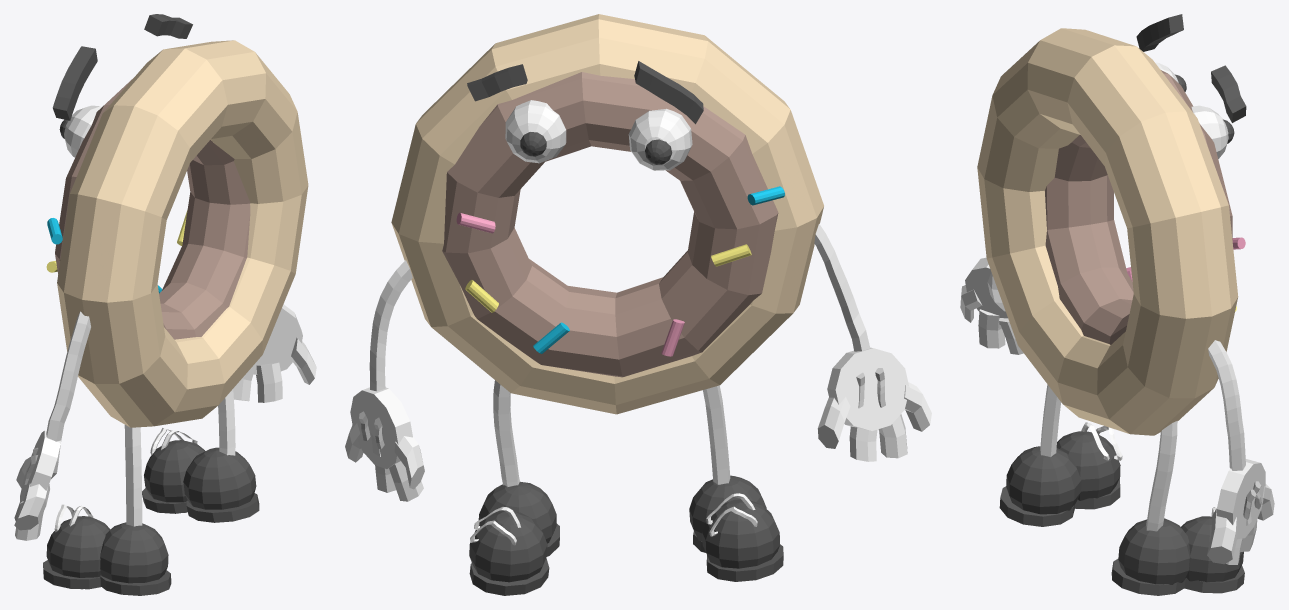
Rendered from donut adam.fbx.
The picture shows the model from 3 angles, left to right: view 1: azimuth 30°, elevation 25°; view 2: azimuth 150°, elevation 25°; view 3: azimuth 270°, elevation 25°; orthographic projection. The views are drawn at different scales.
Visible parts, largest first — view 1: mesh_714045191, mesh_1408855644, group_1271726261, group_911610836, group_913153934, group_1092254099, group_656011443, group_1081606240, mesh_605939537, group_1553115037, group_729656829; view 2: mesh_714045191, mesh_1408855644, group_913153934, group_911610836, group_1092254099, group_1271726261, group_54839747, mesh_605939537, group_1553115037, group_1081606240, group_656011443, group_729656829; view 3: mesh_714045191, mesh_1408855644, group_1271726261, group_911610836, group_1092254099, group_913153934, group_1553115037, group_729656829, group_54839747, group_1081606240, group_656011443.
Boxes of the visible parts, x1,y1,x2,y2 form: mesh_714045191: (57, 40, 308, 427); mesh_1408855644: (55, 78, 250, 339); group_1271726261: (43, 504, 171, 595); group_911610836: (142, 428, 259, 522); group_913153934: (14, 311, 90, 540); group_1092254099: (233, 304, 316, 402); group_656011443: (52, 46, 97, 120); group_1081606240: (124, 425, 142, 526); mesh_605939537: (64, 105, 101, 157); group_1553115037: (218, 389, 235, 455); group_729656829: (144, 14, 192, 38); mesh_714045191: (391, 14, 823, 414); mesh_1408855644: (442, 72, 778, 377); group_913153934: (814, 223, 931, 461); group_911610836: (469, 481, 559, 595); group_1092254099: (345, 260, 424, 501); group_1271726261: (689, 475, 783, 581); group_54839747: (505, 100, 566, 163); mesh_605939537: (628, 108, 692, 170); group_1553115037: (493, 380, 519, 486); group_1081606240: (703, 385, 730, 484); group_656011443: (634, 61, 703, 124); group_729656829: (467, 64, 527, 101); mesh_714045191: (977, 28, 1238, 435); mesh_1408855644: (1045, 70, 1232, 344); group_1271726261: (999, 422, 1122, 526); group_911610836: (1111, 507, 1244, 595); group_1092254099: (1207, 340, 1274, 564); group_913153934: (960, 257, 1023, 354); group_1553115037: (1146, 421, 1177, 531); group_729656829: (1211, 65, 1246, 122); group_54839747: (1191, 105, 1234, 158); group_1081606240: (1040, 384, 1061, 456); group_656011443: (1136, 14, 1183, 51).
Size of the model in its own units: 85.92 by 98.49 by 53.62.
